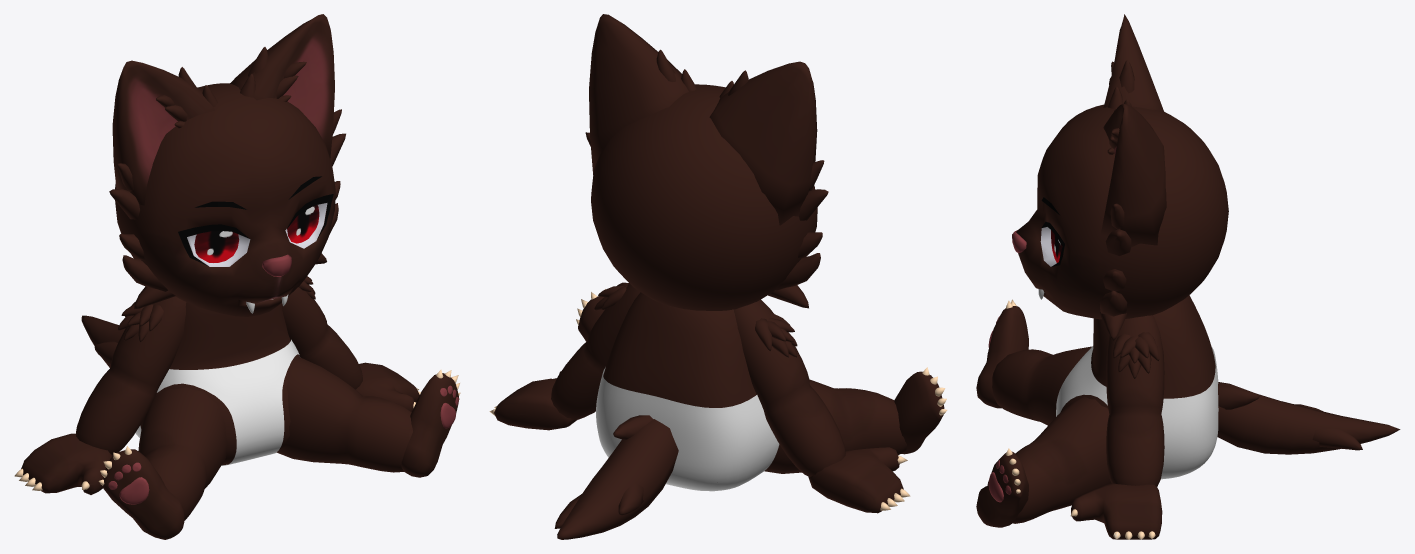
Rendered from WerewolfBaby.fbx.
3 views of the same model, side by side, from view 1: azimuth 30°, elevation 25°; view 2: azimuth 150°, elevation 25°; view 3: azimuth 270°, elevation 25° (orthographic). The views are drawn at different scales.
Visible parts, largest first — view 1: Baby; view 2: Baby; view 3: Baby.
Boxes of the visible parts, x1,y1,x2,y2 form: Baby: (14,14,460,539); Baby: (489,14,947,539); Baby: (976,14,1400,539).
Bounding box in the file's own units: 388 × 402 × 410.
4 materials, 3 textured.
